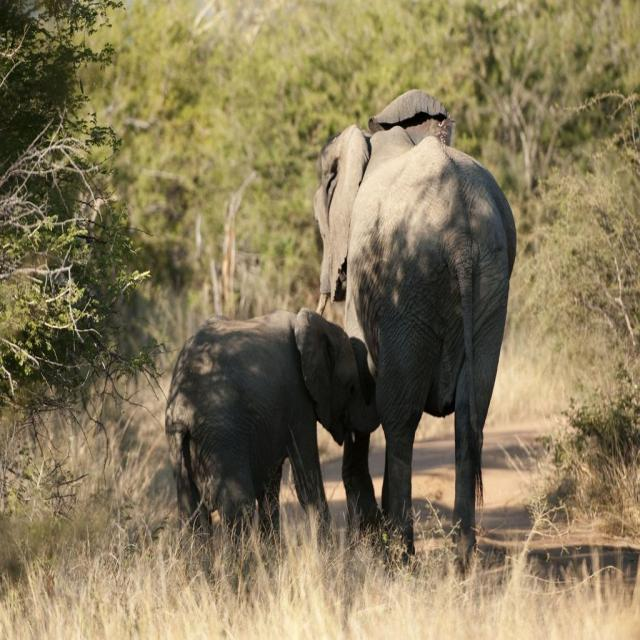elephant: (315, 84, 521, 571), (162, 310, 370, 620)
